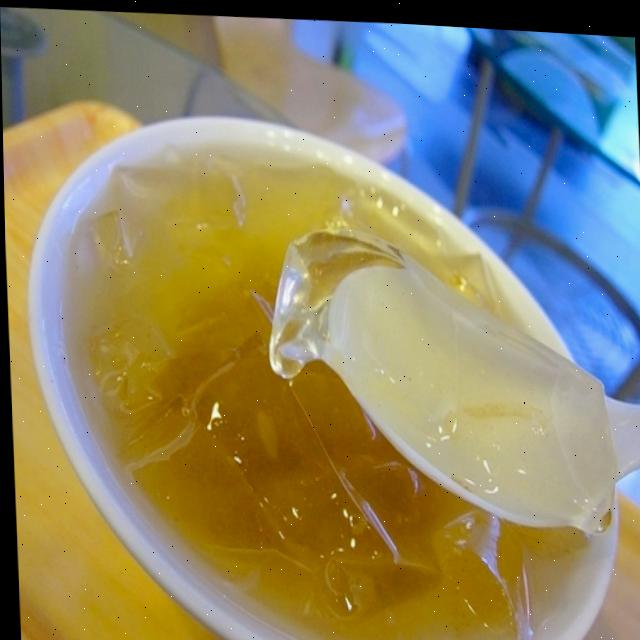蛋糕甜品: (39, 96, 607, 640)
